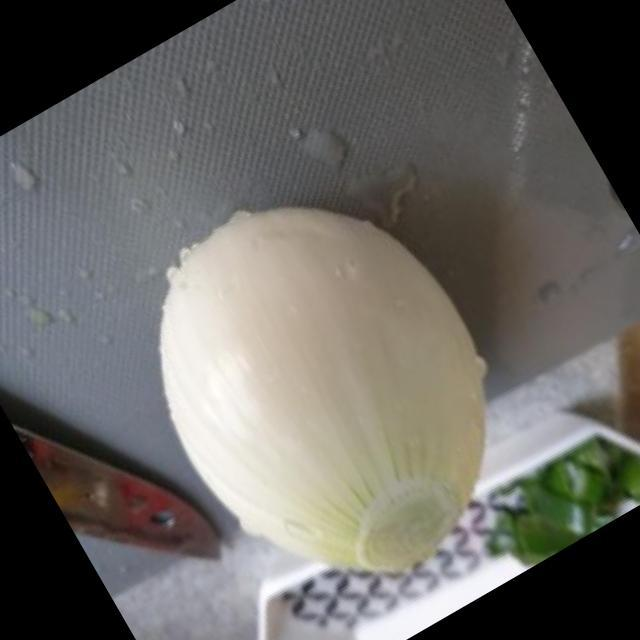Onion: (161, 200, 481, 580)
